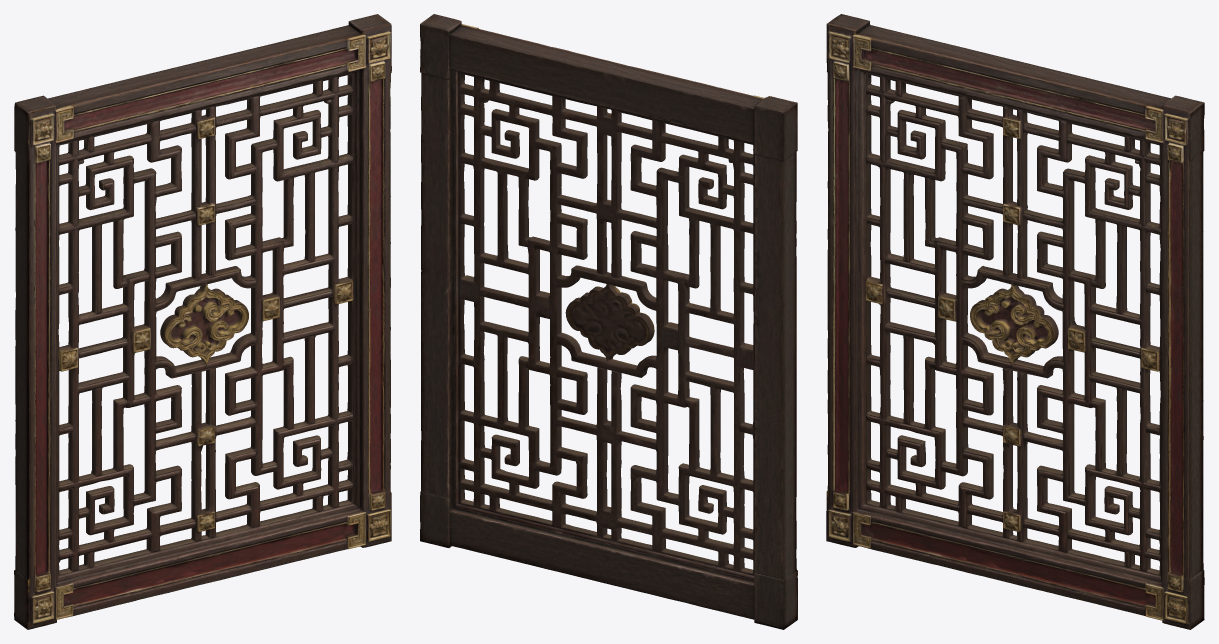
File: 木雕花格屏.glb
The picture shows the model from 3 angles, left to right: view 1: azimuth 30°, elevation 25°; view 2: azimuth 150°, elevation 25°; view 3: azimuth 330°, elevation 25°; orthographic projection.
Parts seen in each view (by area): view 1: tripo_node_bce63236-8b8e-42d1-867a-0bbaf01f7194; view 2: tripo_node_bce63236-8b8e-42d1-867a-0bbaf01f7194; view 3: tripo_node_bce63236-8b8e-42d1-867a-0bbaf01f7194.
Boxes of the visible parts, x1=… form: tripo_node_bce63236-8b8e-42d1-867a-0bbaf01f7194: x1=14, y1=14, x2=391, y2=629; tripo_node_bce63236-8b8e-42d1-867a-0bbaf01f7194: x1=420, y1=14, x2=797, y2=629; tripo_node_bce63236-8b8e-42d1-867a-0bbaf01f7194: x1=826, y1=14, x2=1204, y2=629.
Size of the model in its own units: 0.7195 by 0.9769 by 0.058.
1 material, 1 textured.
